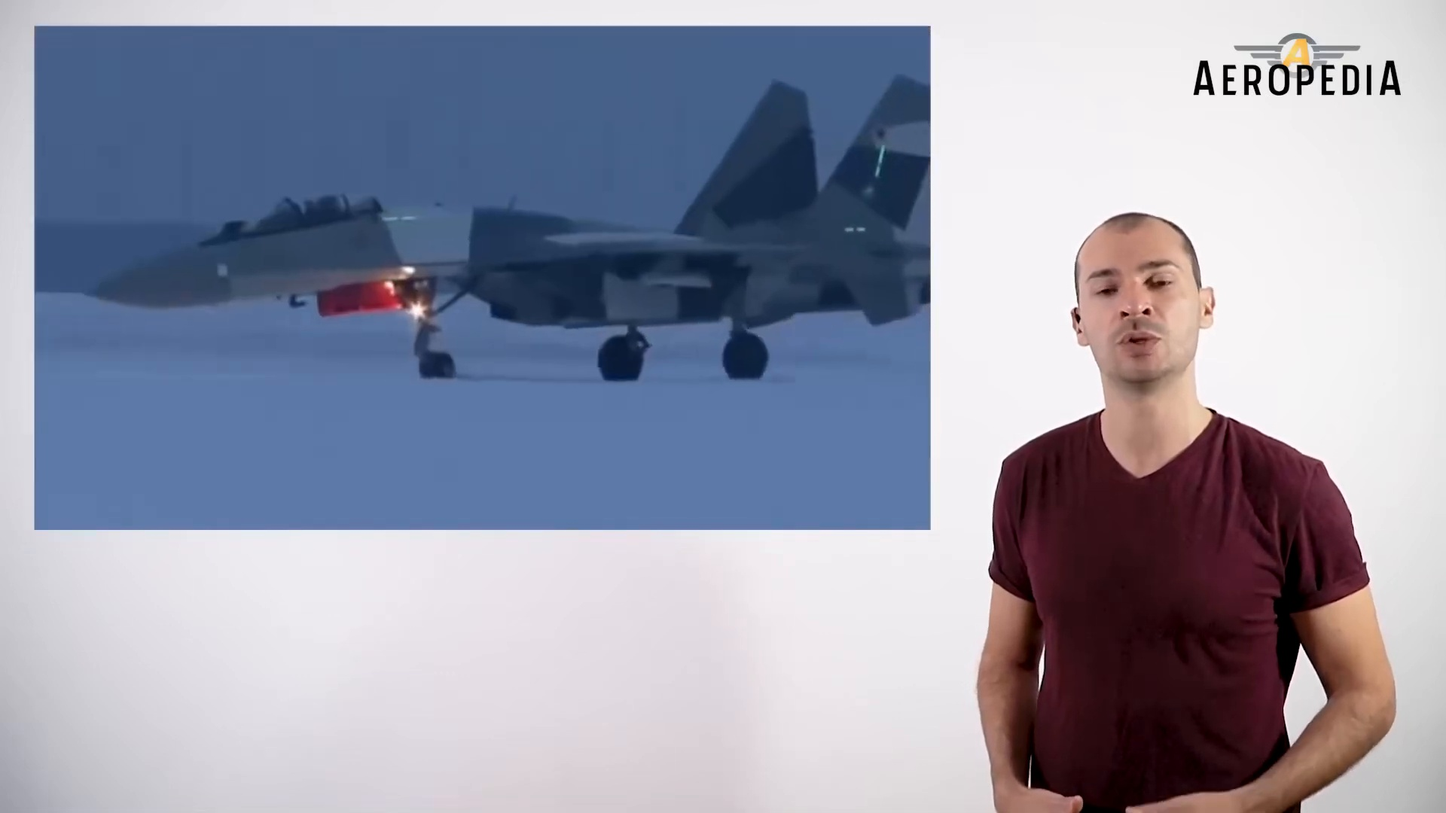Su35: (86, 70, 930, 379)
